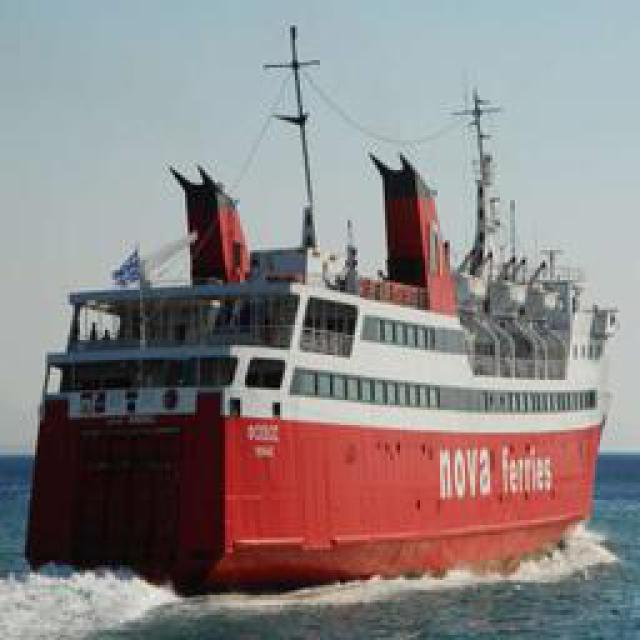Ship: (22, 65, 612, 593)
